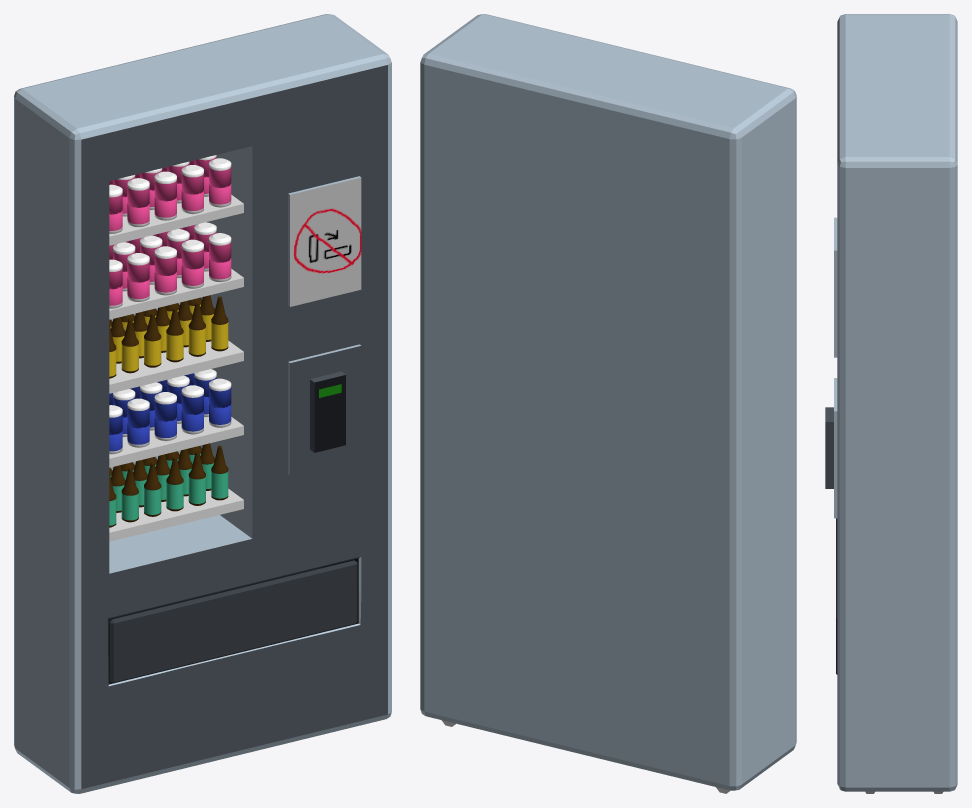
Rendered from vending-machine.glb.
3 views of the same model, side by side, from view 1: azimuth 30°, elevation 25°; view 2: azimuth 150°, elevation 25°; view 3: azimuth 270°, elevation 25° (orthographic). The views are drawn at different scales.
Parts seen in each view (by area): view 1: vending_machine, flap, shelves, pink-cans, can, blue-bottles, bottle, pink-cans.001; view 2: vending_machine; view 3: vending_machine, flap.
Boxes of the visible parts, x1,y1,x2,y2 form: vending_machine: [14, 14, 391, 793]; flap: [109, 560, 357, 683]; shelves: [109, 195, 243, 541]; pink-cans: [109, 222, 231, 308]; can: [109, 369, 231, 454]; blue-bottles: [109, 443, 228, 527]; bottle: [109, 295, 228, 378]; pink-cans.001: [109, 155, 231, 233]; vending_machine: [420, 14, 796, 790]; vending_machine: [825, 14, 957, 791]; flap: [836, 518, 837, 674].
Size of the model in its own units: 10 by 20.03 by 3.75.
Materials: 16 (2 with a texture image).
